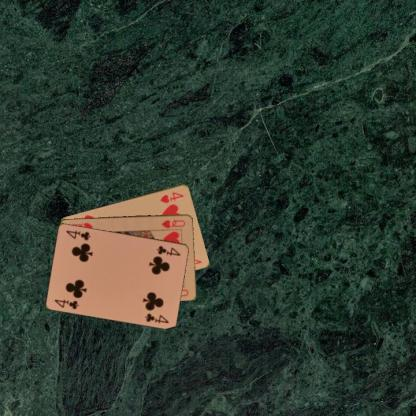4c: (154, 243, 182, 257), (52, 296, 80, 310)
4h: (157, 189, 185, 204)
Qh: (159, 217, 187, 229)
